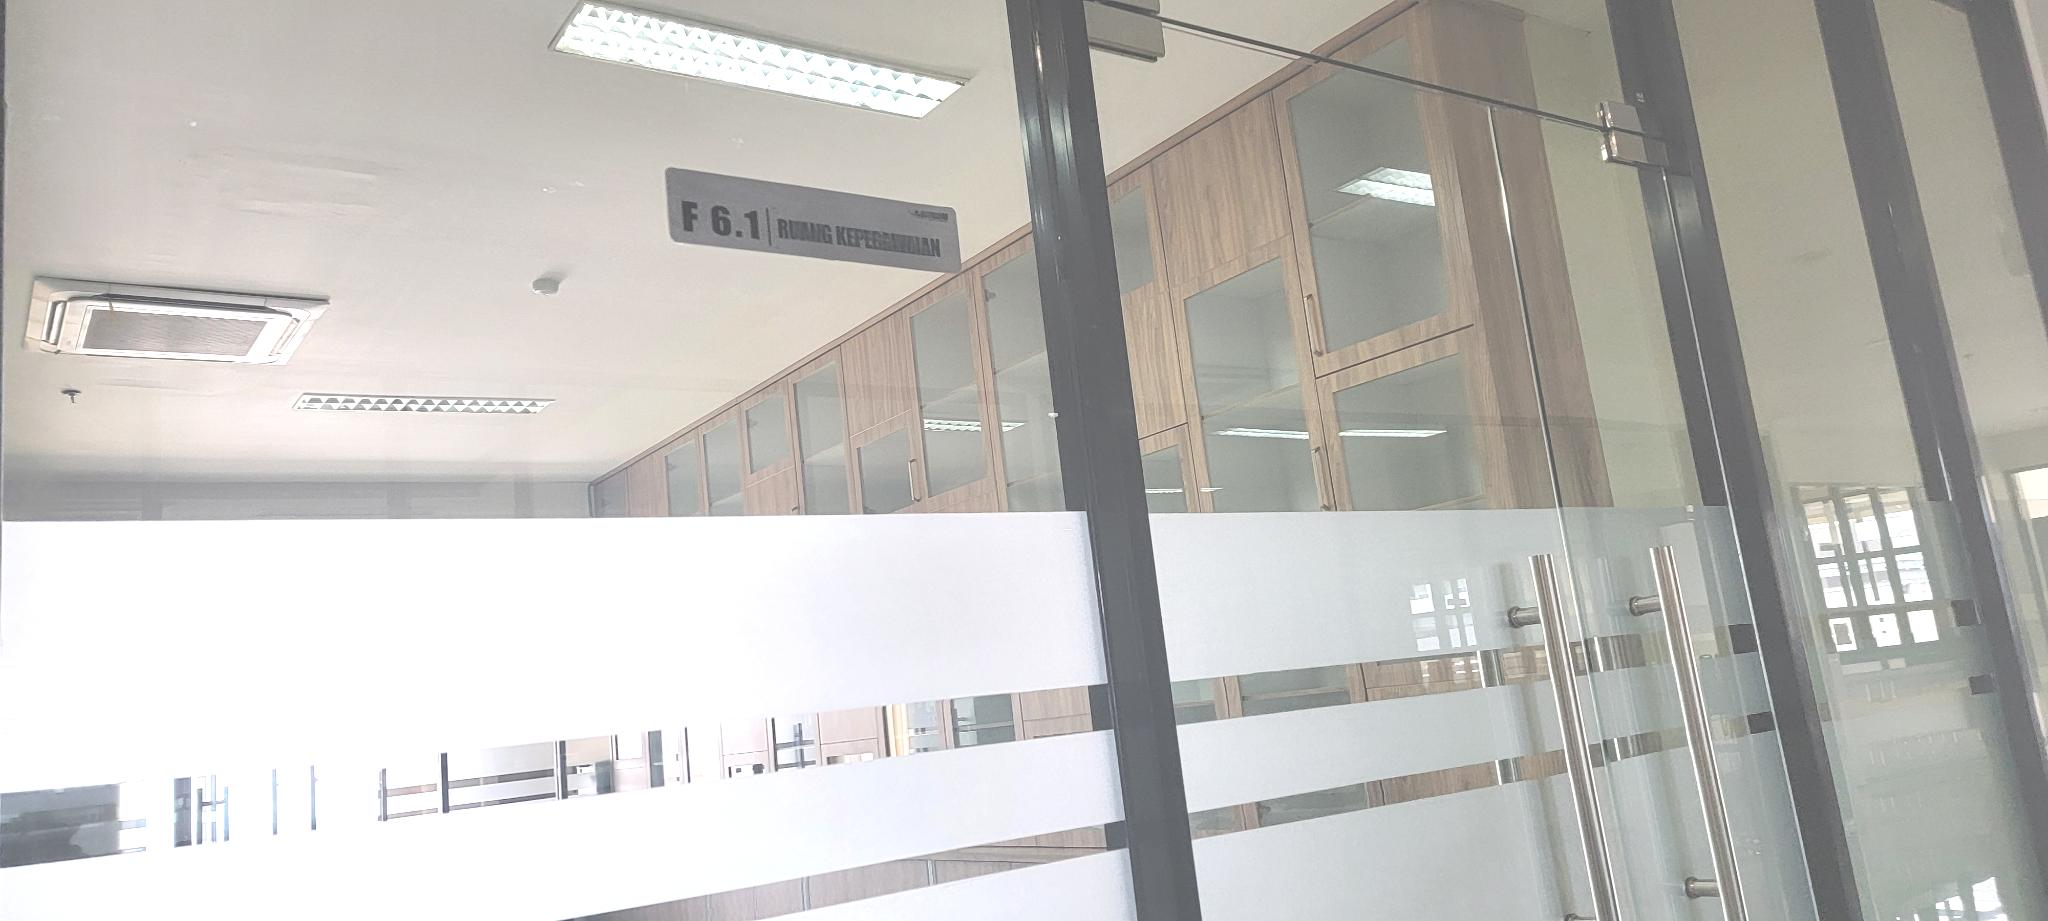plate: (664, 166, 963, 276)
